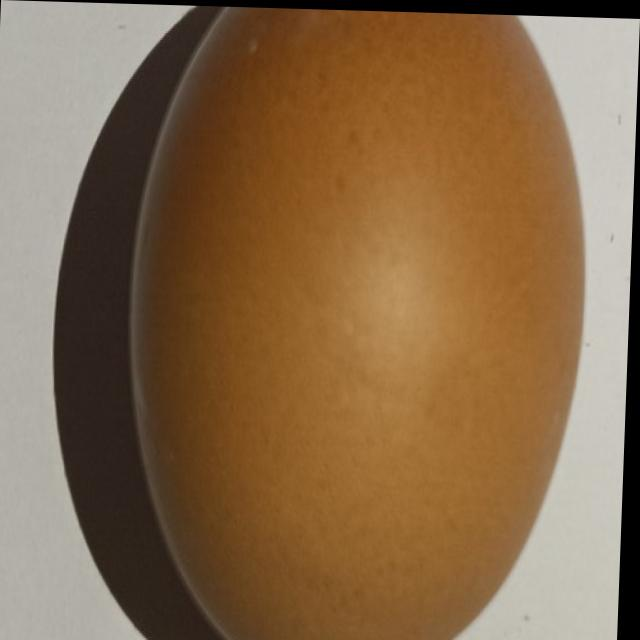fresh: (109, 3, 606, 640)
